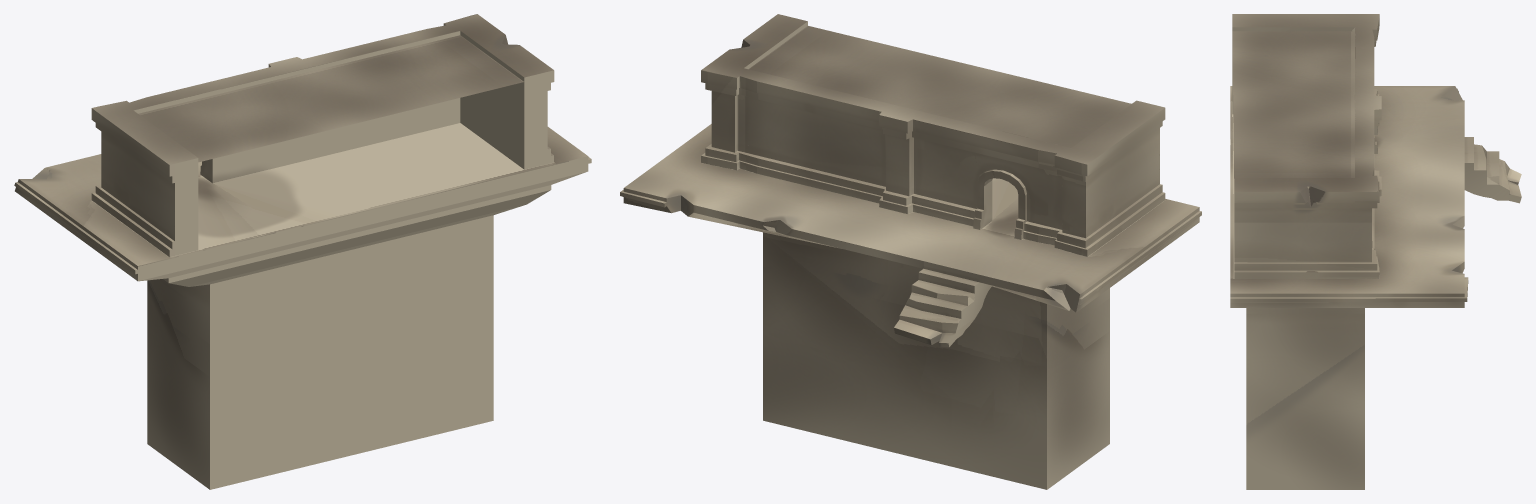
Rendered from bg_level1.fbx.
3 renders of one model, left to right at view 1: azimuth 30°, elevation 25°; view 2: azimuth 150°, elevation 25°; view 3: azimuth 270°, elevation 25°, orthographic. The views are drawn at different scales.
Parts seen in each view (by area): view 1: bg_level1; view 2: bg_level1; view 3: bg_level1.
Part boxes in pixels (x1,y1,x2,y2): bg_level1: [14, 14, 591, 489]; bg_level1: [620, 14, 1201, 489]; bg_level1: [1230, 14, 1521, 489].
Bounding box in the file's own units: 2688 × 1925 × 1575.
Materials: 1 (1 with a texture image).
